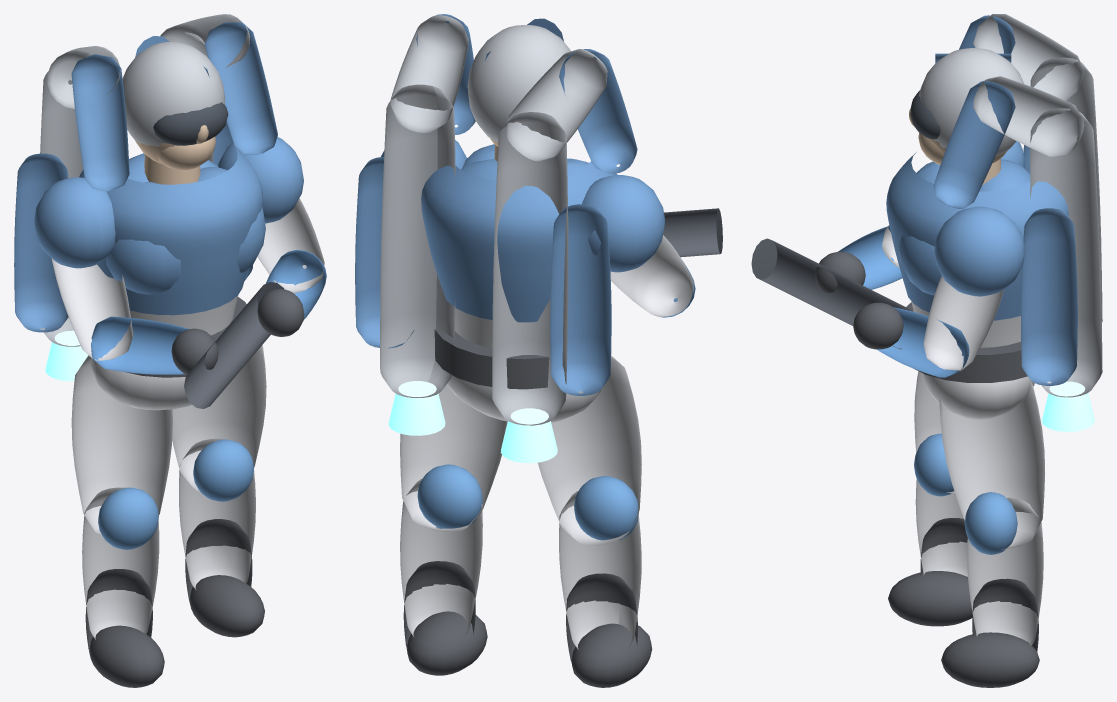
The model's file is jumpjet.glb.
3 views of the same model, side by side, from view 1: azimuth 30°, elevation 25°; view 2: azimuth 150°, elevation 25°; view 3: azimuth 270°, elevation 25° (orthographic). The views are drawn at different scales.
Parts seen in each view (by area): view 1: Hull; view 2: Hull; view 3: Hull.
Boxes of the visible parts, x1=… form: Hull: x1=14, y1=14, x2=326, y2=687; Hull: x1=355, y1=14, x2=722, y2=687; Hull: x1=751, y1=14, x2=1102, y2=687.
Bounding box in the file's own units: 0.4343 × 0.9501 × 0.499.
